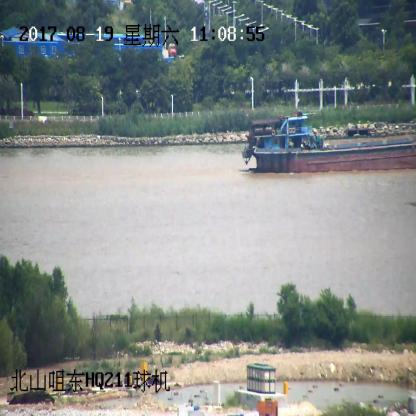Bulk Carrier: (242, 113, 415, 174)
